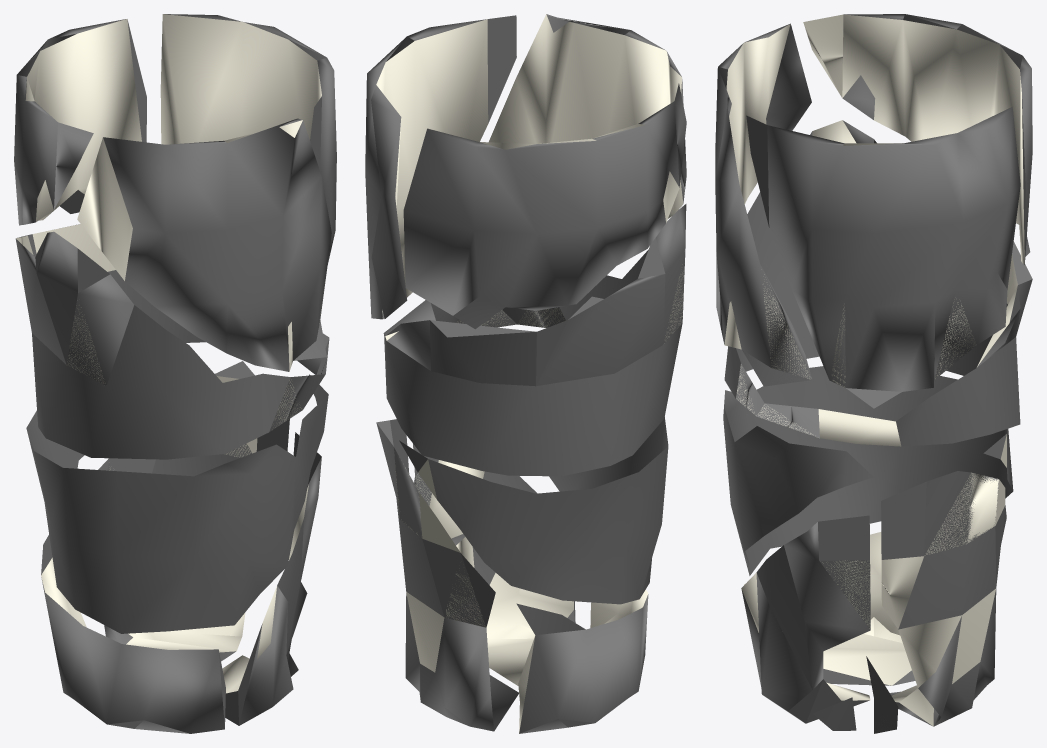
Rendered from CeramicsShattered.fbx_Glass_Fractured.fbx.
3 views of the same model, side by side, from view 1: azimuth 30°, elevation 25°; view 2: azimuth 150°, elevation 25°; view 3: azimuth 270°, elevation 25° (orthographic).
Parts seen in each view (by area): view 1: Glass_cell, Glass_cell.004, Glass_cell.001, Glass_cell.006, Glass_cell.005, Glass_cell.009, Glass_cell.008, Glass_cell.002; view 2: Glass_cell.001, Glass_cell.005, Glass_cell.004, Glass_cell.006, Glass_cell.002, Glass_cell, Glass_cell.009, Glass_cell.008; view 3: Glass_cell.006, Glass_cell.004, Glass_cell.002, Glass_cell.005, Glass_cell, Glass_cell.001, Glass_cell.008, Glass_cell.009, Glass_cell.007, Glass_cell.003.
Part boxes in pixels (left/top/right/bottom): Glass_cell: left=77, top=118, right=331, bottom=371; Glass_cell.004: left=26, top=374, right=328, bottom=633; Glass_cell.001: left=15, top=224, right=329, bottom=459; Glass_cell.006: left=160, top=14, right=336, bottom=264; Glass_cell.005: left=14, top=19, right=146, bottom=225; Glass_cell.009: left=41, top=534, right=225, bottom=733; Glass_cell.008: left=222, top=432, right=321, bottom=725; Glass_cell.002: left=98, top=361, right=289, bottom=661; Glass_cell.001: left=383, top=204, right=686, bottom=476; Glass_cell.005: left=403, top=83, right=686, bottom=329; Glass_cell.004: left=399, top=417, right=668, bottom=604; Glass_cell.006: left=365, top=15, right=516, bottom=319; Glass_cell.002: left=376, top=419, right=518, bottom=731; Glass_cell: left=489, top=14, right=686, bottom=218; Glass_cell.009: left=516, top=589, right=648, bottom=733; Glass_cell.008: left=413, top=444, right=575, bottom=685; Glass_cell.006: left=746, top=107, right=1020, bottom=408; Glass_cell.004: left=723, top=366, right=1013, bottom=575; Glass_cell.002: left=881, top=471, right=1006, bottom=726; Glass_cell.005: left=803, top=14, right=1032, bottom=265; Glass_cell: left=715, top=23, right=812, bottom=386; Glass_cell.001: left=724, top=120, right=1032, bottom=446; Glass_cell.008: left=741, top=515, right=870, bottom=723; Glass_cell.009: left=744, top=532, right=915, bottom=685; Glass_cell.007: left=866, top=656, right=898, bottom=733; Glass_cell.003: left=812, top=697, right=856, bottom=730.
Size of the model in its own units: 4.9 by 10.44 by 4.99.
